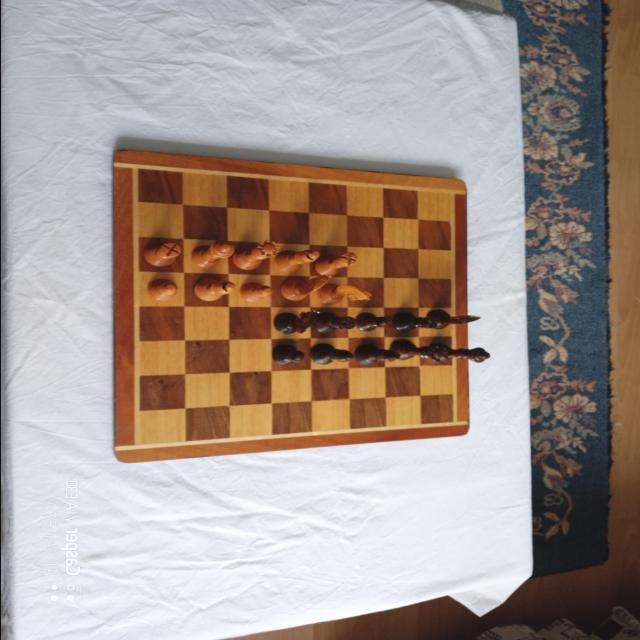black-bishop: (309, 343, 353, 365), (355, 344, 399, 364)
black-king: (427, 341, 489, 363)
black-knight: (427, 309, 479, 329), (274, 310, 316, 334)
black-pawn: (272, 343, 304, 365), (355, 312, 389, 332)
black-queen: (388, 338, 448, 361)
black-rook: (313, 310, 355, 333), (393, 311, 437, 331)
white-bishop: (273, 248, 319, 272), (193, 278, 235, 302)
white-king: (192, 238, 234, 267)
white-knight: (280, 275, 331, 301), (316, 282, 372, 305)
white-pawn: (239, 281, 273, 303), (146, 279, 177, 301)
white-queen: (232, 240, 279, 270)
white-rook: (314, 252, 357, 276), (143, 241, 181, 266)
